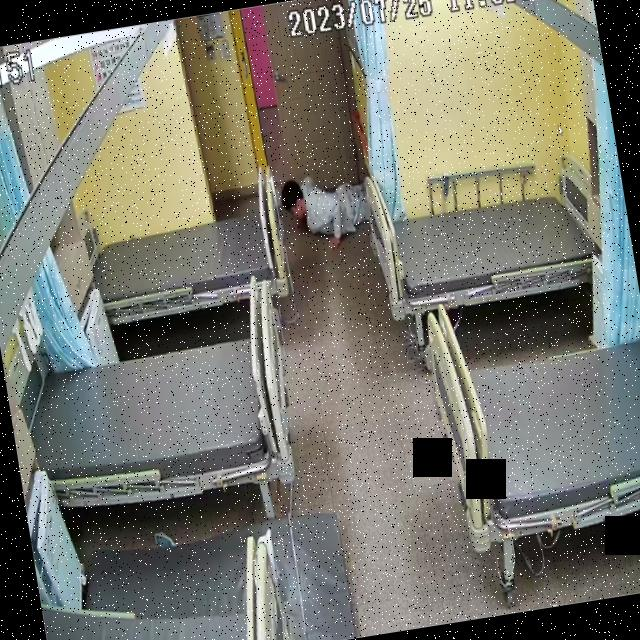bed: (419, 274, 640, 550), (18, 324, 302, 516), (364, 168, 614, 322), (88, 198, 290, 324)
fall: (277, 165, 375, 258)
patient: (278, 166, 375, 256)
